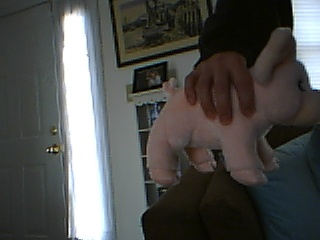piggy: (146, 26, 320, 191)
